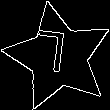L_S: (40, 30, 77, 84)
